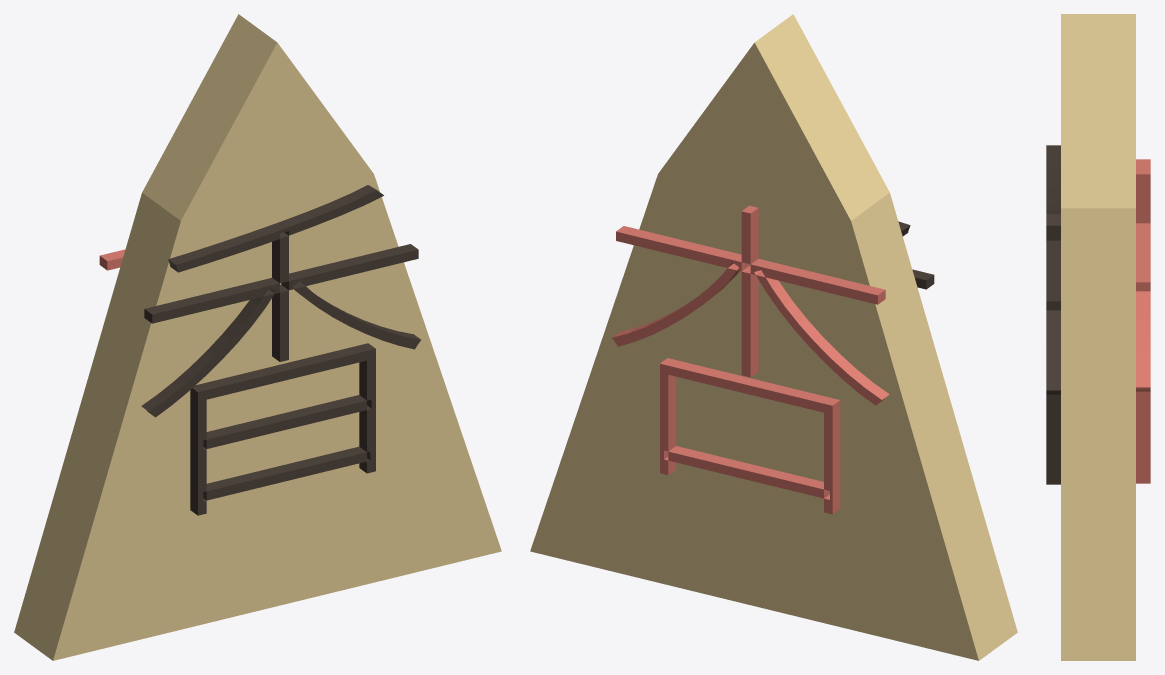
Rendered from koma-kyo.glb.
The picture shows the model from 3 angles, left to right: view 1: azimuth 30°, elevation 25°; view 2: azimuth 150°, elevation 25°; view 3: azimuth 270°, elevation 25°; orthographic projection. The views are drawn at different scales.
Visible parts, largest first — view 1: world; view 2: world; view 3: world.
Boxes of the visible parts, box(x1,y1,x2,y2) form: world: box(14, 14, 501, 660); world: box(530, 14, 1017, 660); world: box(1046, 14, 1150, 660).
Bounding box in the file's own units: 2 × 2.4 × 0.42.
